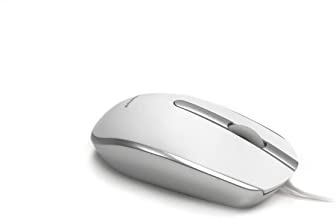mouse: (86, 90, 307, 202)
